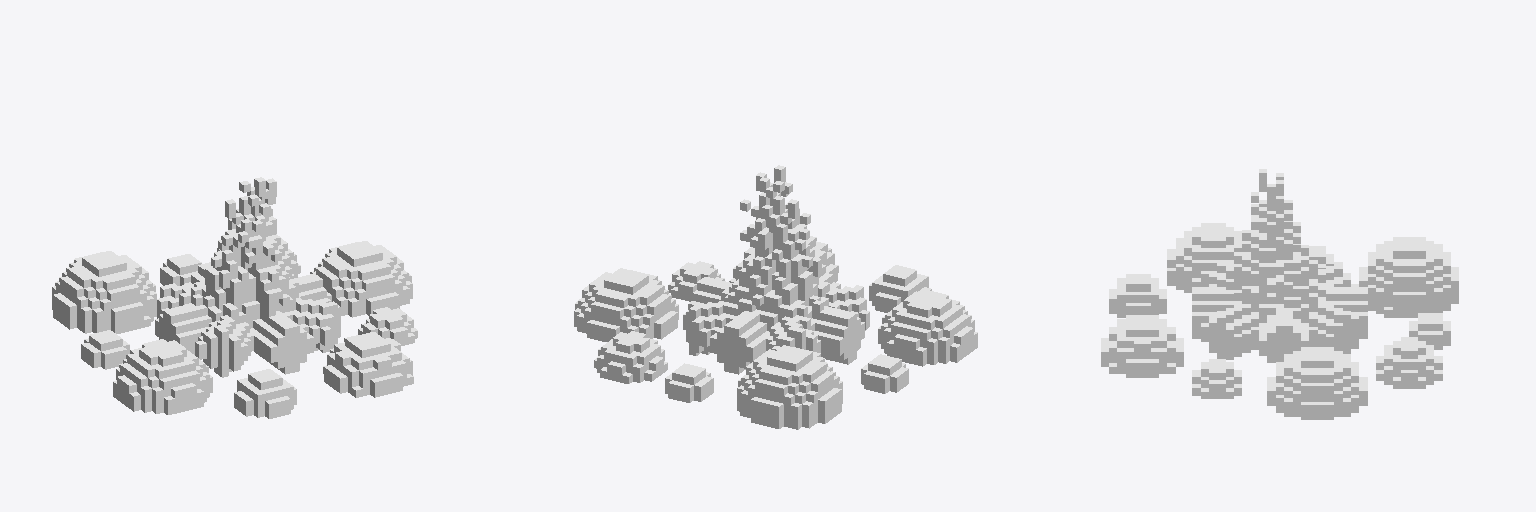
File: prop_campfire.obj
3 views of the same model, side by side, from view 1: azimuth 30°, elevation 25°; view 2: azimuth 150°, elevation 25°; view 3: azimuth 270°, elevation 25° (orthographic).
Parts seen in each view (by area): view 1: object 1; view 2: object 1; view 3: object 1.
Part boxes in pixels (x1,y1,x2,y2): object 1: (52, 177, 417, 418); object 1: (574, 165, 977, 429); object 1: (1101, 169, 1458, 419).
Bounding box in the file's own units: 4.6 × 2.2 × 4.3.